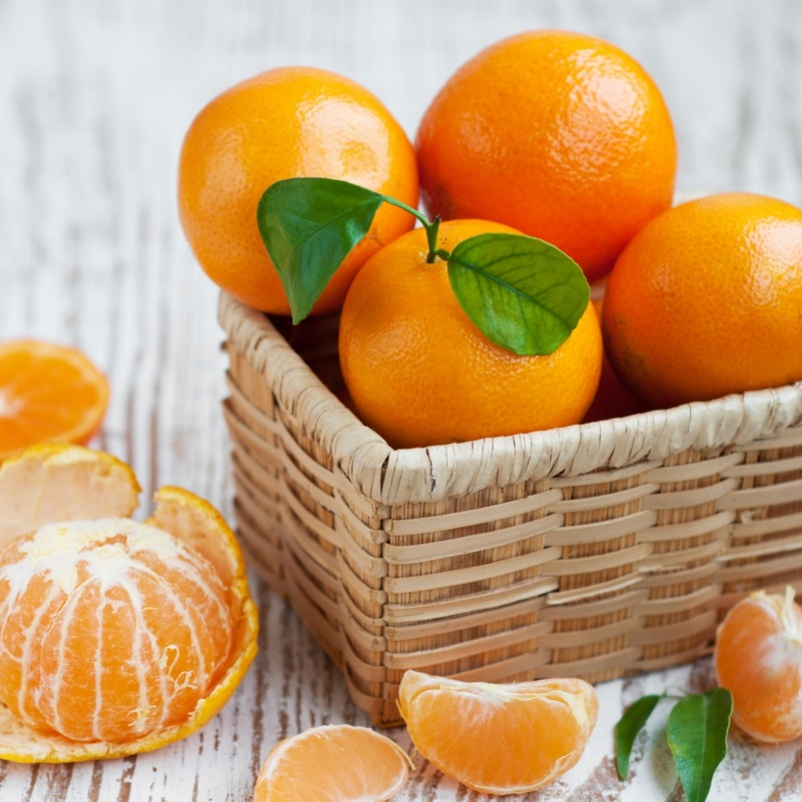mandarin: (412, 30, 677, 286), (349, 213, 603, 449), (181, 67, 417, 318), (1, 510, 232, 747), (609, 191, 802, 395), (393, 668, 597, 786), (710, 583, 802, 743), (243, 723, 407, 802), (1, 338, 111, 446)
